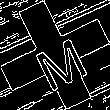M_NW: (23, 22, 87, 88)
